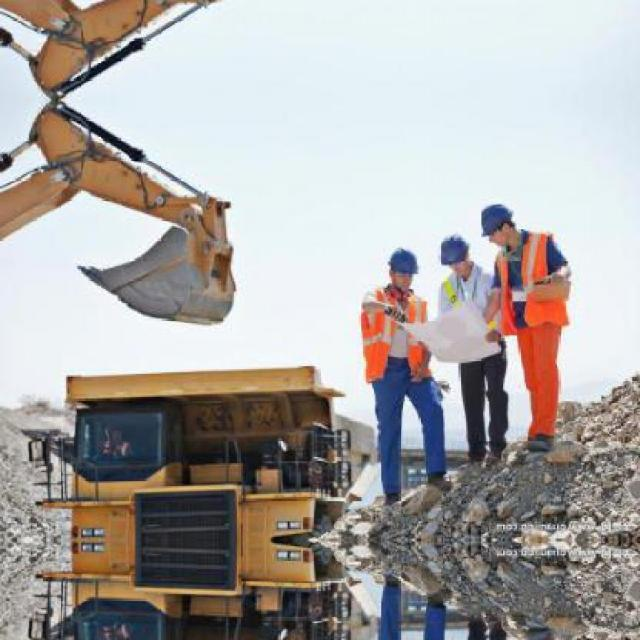Reflective-Jacket: (491, 229, 577, 345), (351, 284, 437, 388), (432, 264, 506, 364)
Safety-Helmet: (470, 197, 524, 240), (376, 240, 426, 285), (431, 229, 477, 269)
